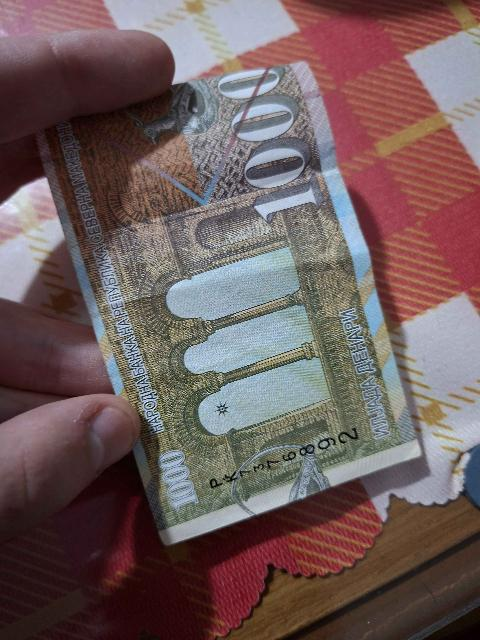1000_note: (39, 64, 419, 543)
